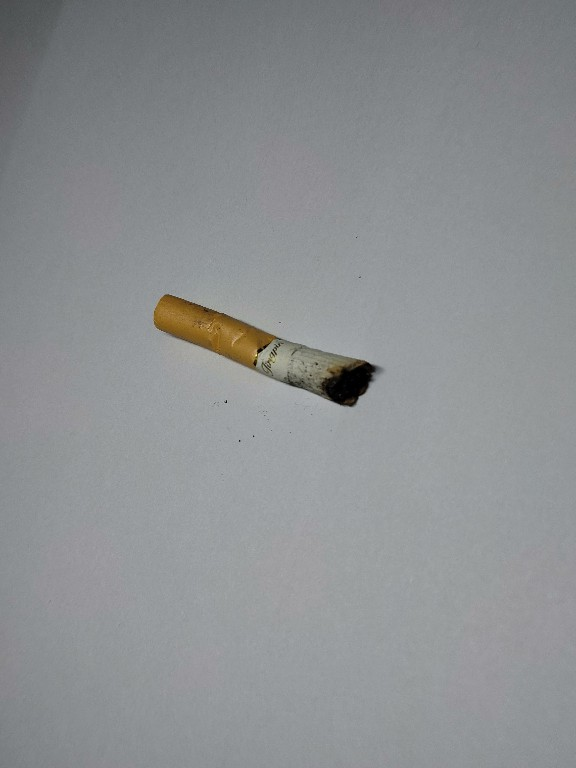cigarette: (148, 291, 388, 413)
